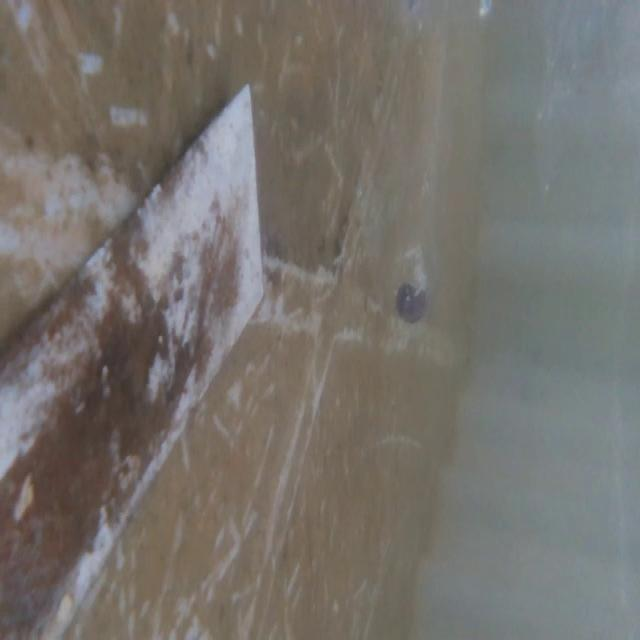metal: (0, 80, 272, 640)
plastic bottle: (352, 144, 465, 340)
